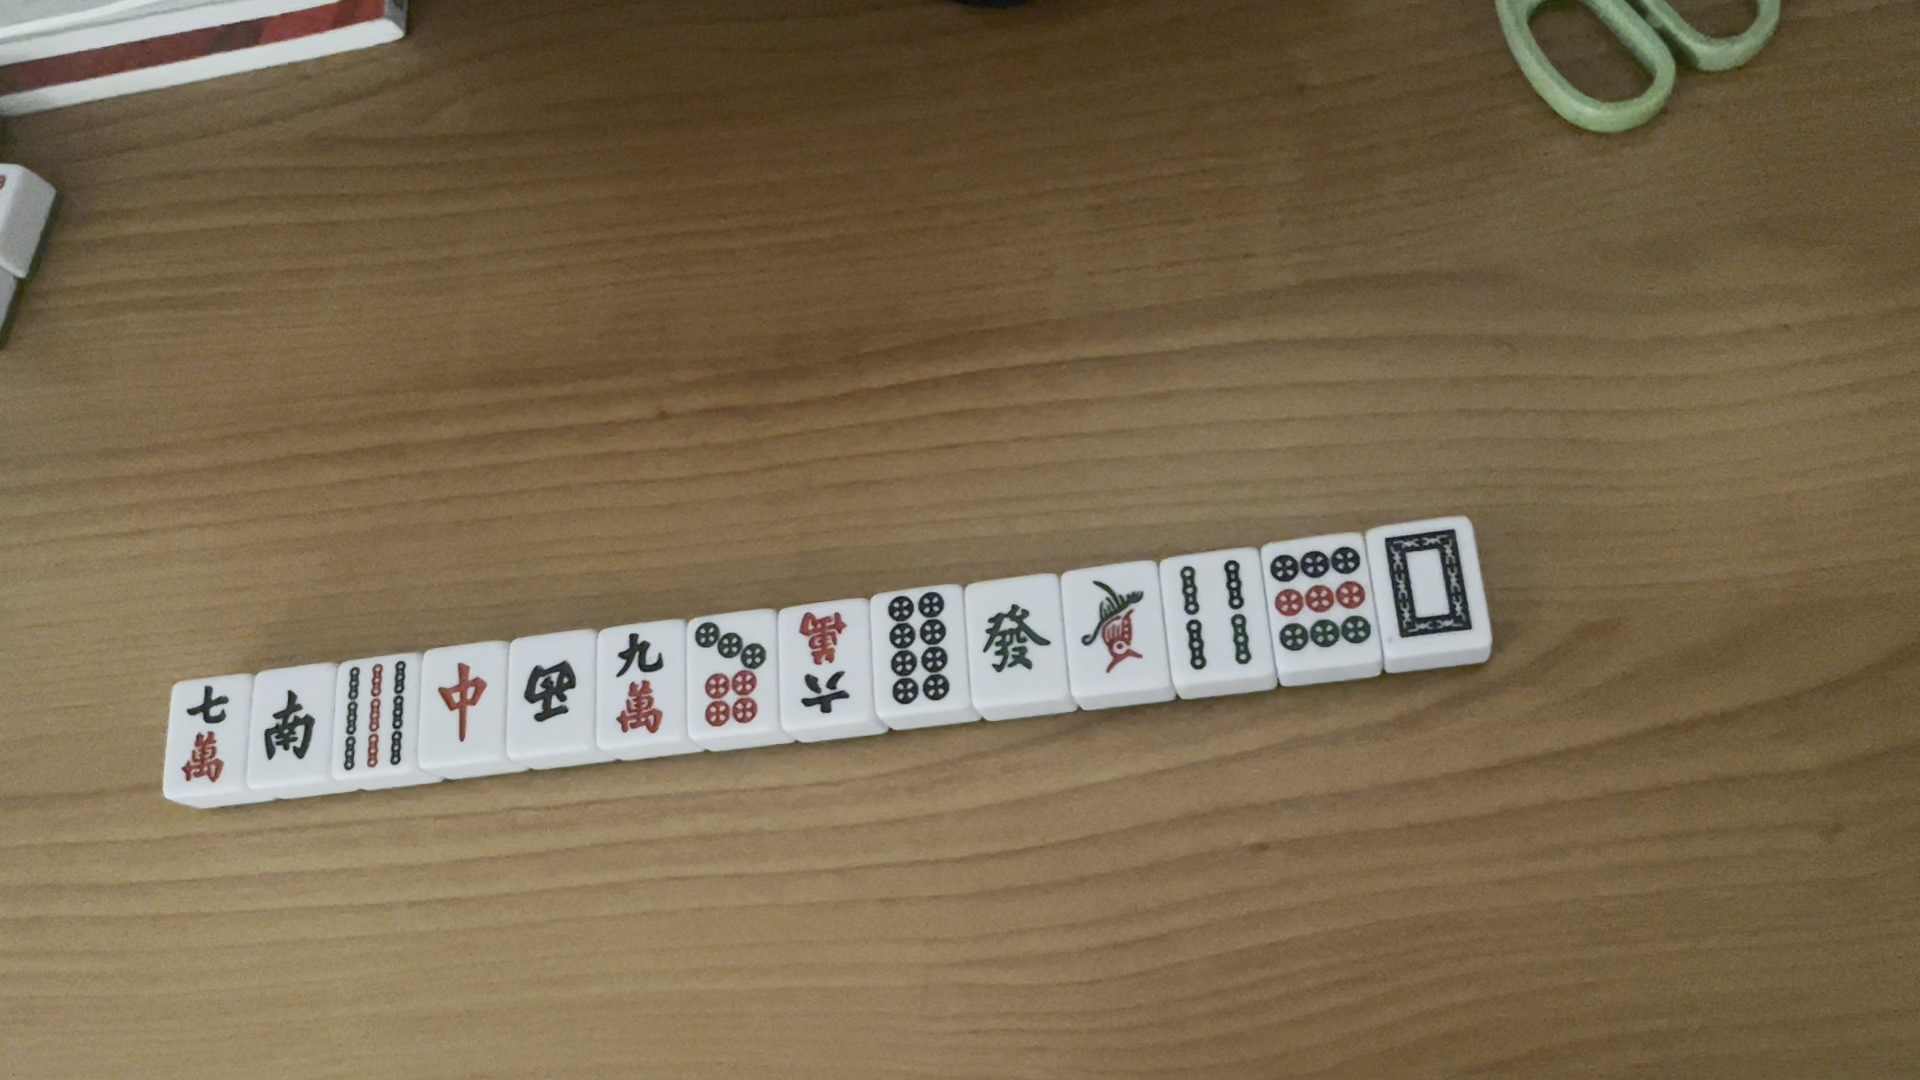b-1: (1076, 570, 1149, 675)
b-4: (1176, 556, 1251, 673)
b-9: (336, 659, 415, 775)
c-6: (787, 603, 860, 713)
c-7: (170, 682, 237, 783)
c-9: (599, 628, 676, 735)
d-7: (687, 620, 771, 735)
d-8: (884, 585, 952, 709)
d-9: (1271, 547, 1374, 657)
honors-green: (976, 597, 1054, 682)
honors-red: (429, 659, 495, 750)
honors-south: (255, 684, 324, 769)
honors-west: (513, 653, 585, 731)
honors-white: (1379, 524, 1477, 640)
